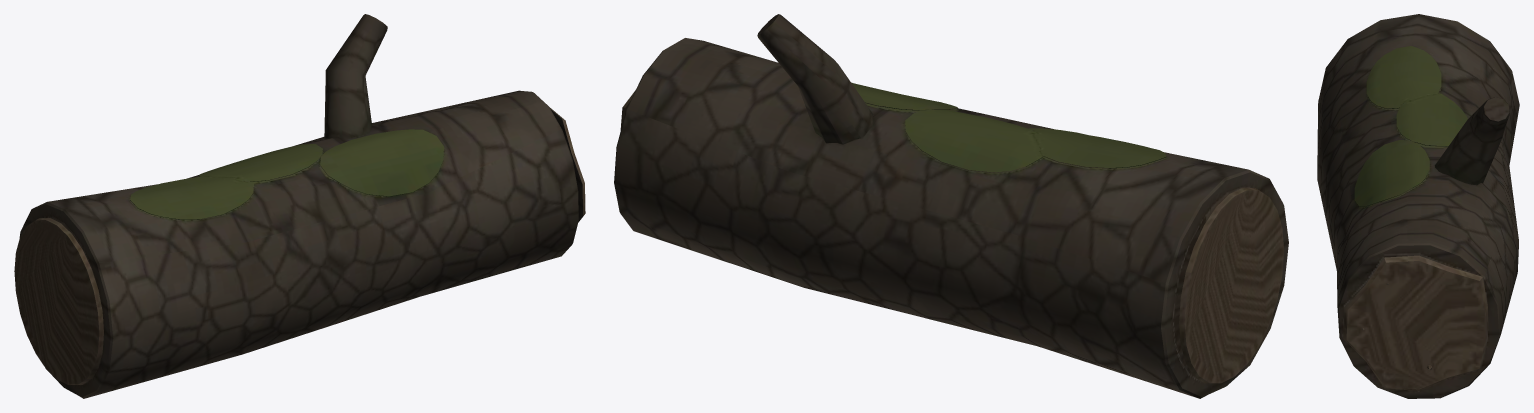
File: fallen_log.glb
3 views of the same model, side by side, from view 1: azimuth 30°, elevation 25°; view 2: azimuth 150°, elevation 25°; view 3: azimuth 270°, elevation 25° (orthographic). The views are drawn at different scales.
Visible parts, largest first — view 1: fallen_log; view 2: fallen_log; view 3: fallen_log.
Boxes of the visible parts, x1=… form: fallen_log: x1=14, y1=14, x2=585, y2=398; fallen_log: x1=614, y1=14, x2=1288, y2=398; fallen_log: x1=1317, y1=14, x2=1519, y2=398.
Bounding box in the file's own units: 0.9483 × 0.4735 × 0.339.
Materials: 1 (1 with a texture image).
